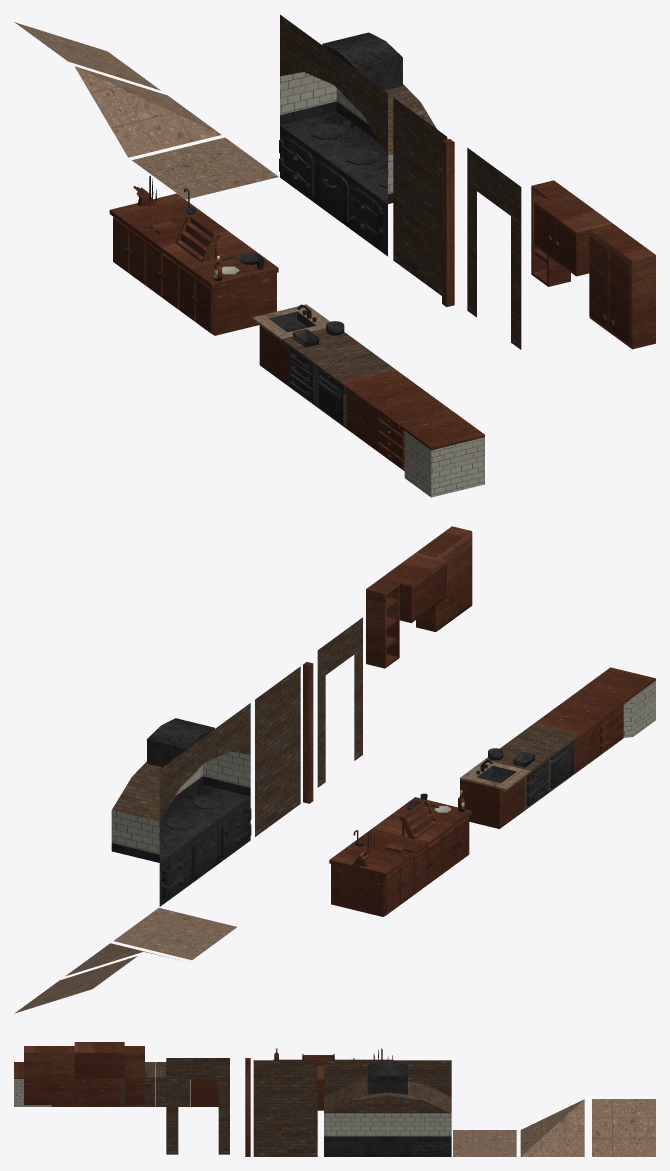
File: AssetsCozinha.fbx
The picture shows the model from 3 angles, top to bottom: view 1: azimuth 30°, elevation 25°; view 2: azimuth 150°, elevation 25°; view 3: azimuth 270°, elevation 25°; orthographic projection. The views are drawn at different scales.
Parts seen in each view (by area): view 1: fogao, IlhaCozinha, paredeCozinha, tetoLateralCozinha, CozinhaBancadaChaoQuina, ChaoCozinha, paredeCozinhaPorta, Bancada superior, Estande2, CozinhaBancadaChao2, CozinhaBancadaChao3, CozinhaBancadaChao4 (+8 smaller); view 2: fogao, IlhaCozinha, paredeCozinha, ChaoCozinha, CozinhaBancadaPia, paredeCozinhaPorta, Bancada superior, Estande, CozinhaBancadaChaoQuina, CozinhaBancadaChao2, CozinhaBancadaChao3, CozinhaBancadaChao4 (+8 smaller); view 3: fogao, paredeCozinha, tetoIclinado, paredeCozinhaPorta, Estande2, tetoLateralCozinha, Bancada superior, ChaoCozinha, Estande, CozinhaBancadaChao3, CozinhaBancadaChao1, CozinhaBancadaPia (+6 smaller).
Boxes of the visible parts, x1=… form: fogao: x1=279, y1=14, x2=436, y2=256; IlhaCozinha: x1=109, y1=193, x2=278, y2=335; paredeCozinha: x1=393, y1=97, x2=447, y2=295; tetoLateralCozinha: x1=74, y1=66, x2=221, y2=157; CozinhaBancadaChaoQuina: x1=399, y1=411, x2=484, y2=497; ChaoCozinha: x1=132, y1=137, x2=278, y2=199; paredeCozinhaPorta: x1=467, y1=148, x2=521, y2=349; Bancada superior: x1=534, y1=193, x2=612, y2=276; Estande2: x1=591, y1=224, x2=655, y2=348; CozinhaBancadaChao2: x1=311, y1=347, x2=394, y2=429; CozinhaBancadaChao3: x1=340, y1=369, x2=423, y2=450; CozinhaBancadaChao4: x1=370, y1=390, x2=452, y2=470; fogao: x1=111, y1=703, x2=251, y2=906; IlhaCozinha: x1=329, y1=797, x2=471, y2=916; paredeCozinha: x1=255, y1=666, x2=300, y2=836; ChaoCozinha: x1=114, y1=908, x2=236, y2=960; CozinhaBancadaPia: x1=460, y1=759, x2=530, y2=828; paredeCozinhaPorta: x1=317, y1=617, x2=362, y2=787; Bancada superior: x1=381, y1=553, x2=446, y2=622; Estande: x1=366, y1=578, x2=399, y2=668; CozinhaBancadaChaoQuina: x1=584, y1=667, x2=655, y2=737; CozinhaBancadaChao2: x1=510, y1=723, x2=580, y2=792; CozinhaBancadaChao3: x1=535, y1=705, x2=604, y2=773; CozinhaBancadaChao4: x1=560, y1=687, x2=629, y2=755; fogao: x1=324, y1=1060, x2=451, y2=1156; paredeCozinha: x1=253, y1=1060, x2=317, y2=1156; tetoIclinado: x1=592, y1=1099, x2=655, y2=1156; paredeCozinhaPorta: x1=166, y1=1058, x2=229, y2=1154; Estande2: x1=24, y1=1046, x2=74, y2=1104; tetoLateralCozinha: x1=520, y1=1099, x2=584, y2=1156; Bancada superior: x1=74, y1=1042, x2=124, y2=1078; ChaoCozinha: x1=453, y1=1130, x2=516, y2=1156; Estande: x1=124, y1=1046, x2=144, y2=1104; CozinhaBancadaChao3: x1=86, y1=1078, x2=120, y2=1106; CozinhaBancadaChao1: x1=155, y1=1062, x2=190, y2=1106; CozinhaBancadaPia: x1=190, y1=1079, x2=218, y2=1106.
Bounding box in the file's own units: 6.43 × 4.07 × 21.81.
